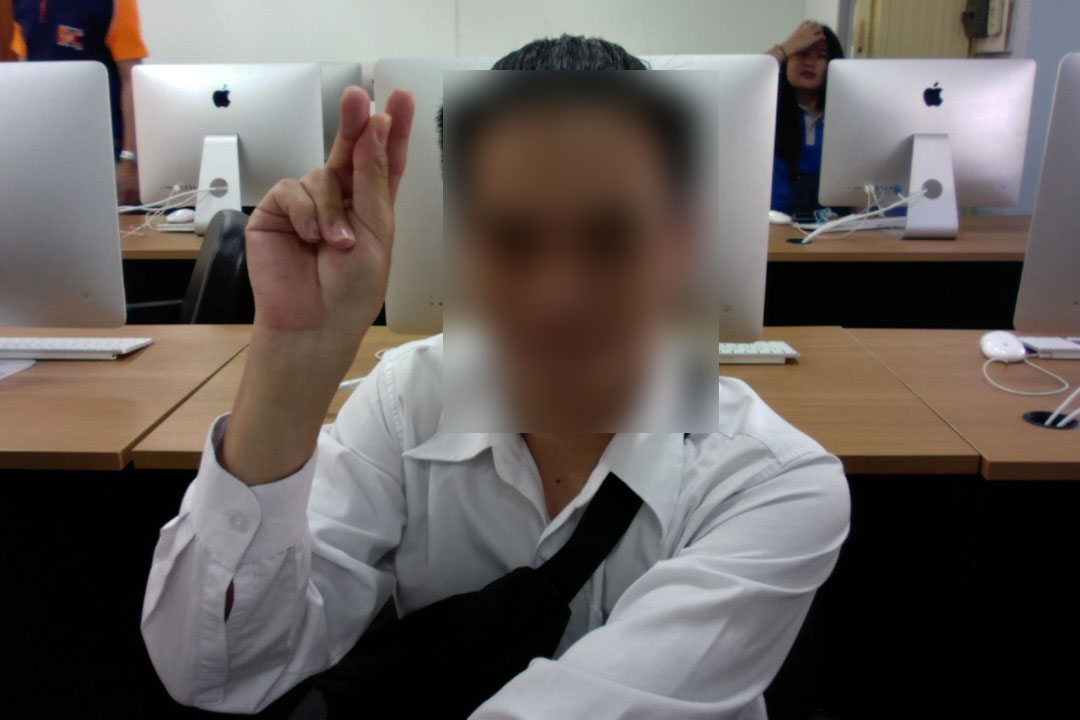ko: (223, 64, 437, 345)
